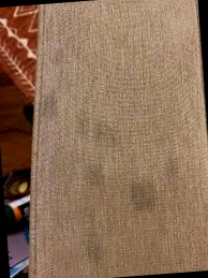oil: (78, 126, 122, 187), (129, 173, 165, 211), (37, 95, 64, 120)
